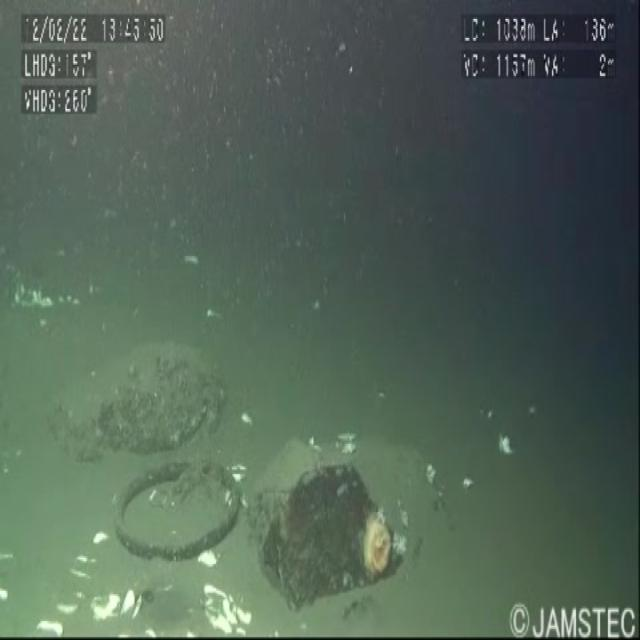Rubber: (106, 440, 247, 570)
